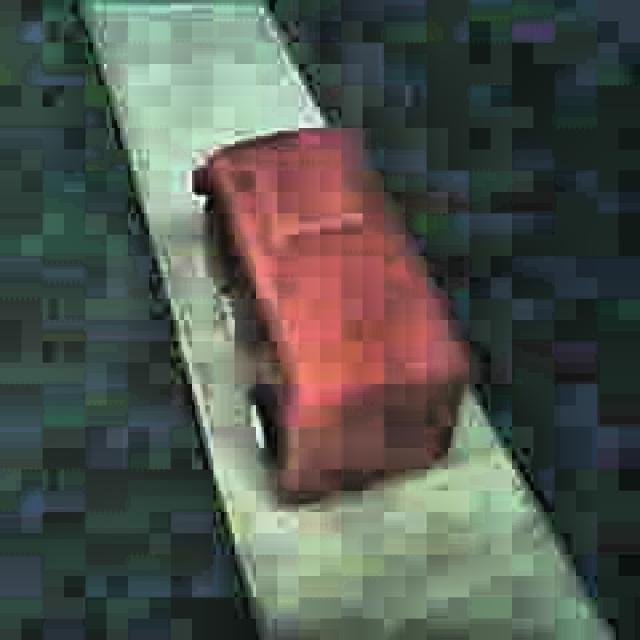bus: (187, 121, 474, 511)
